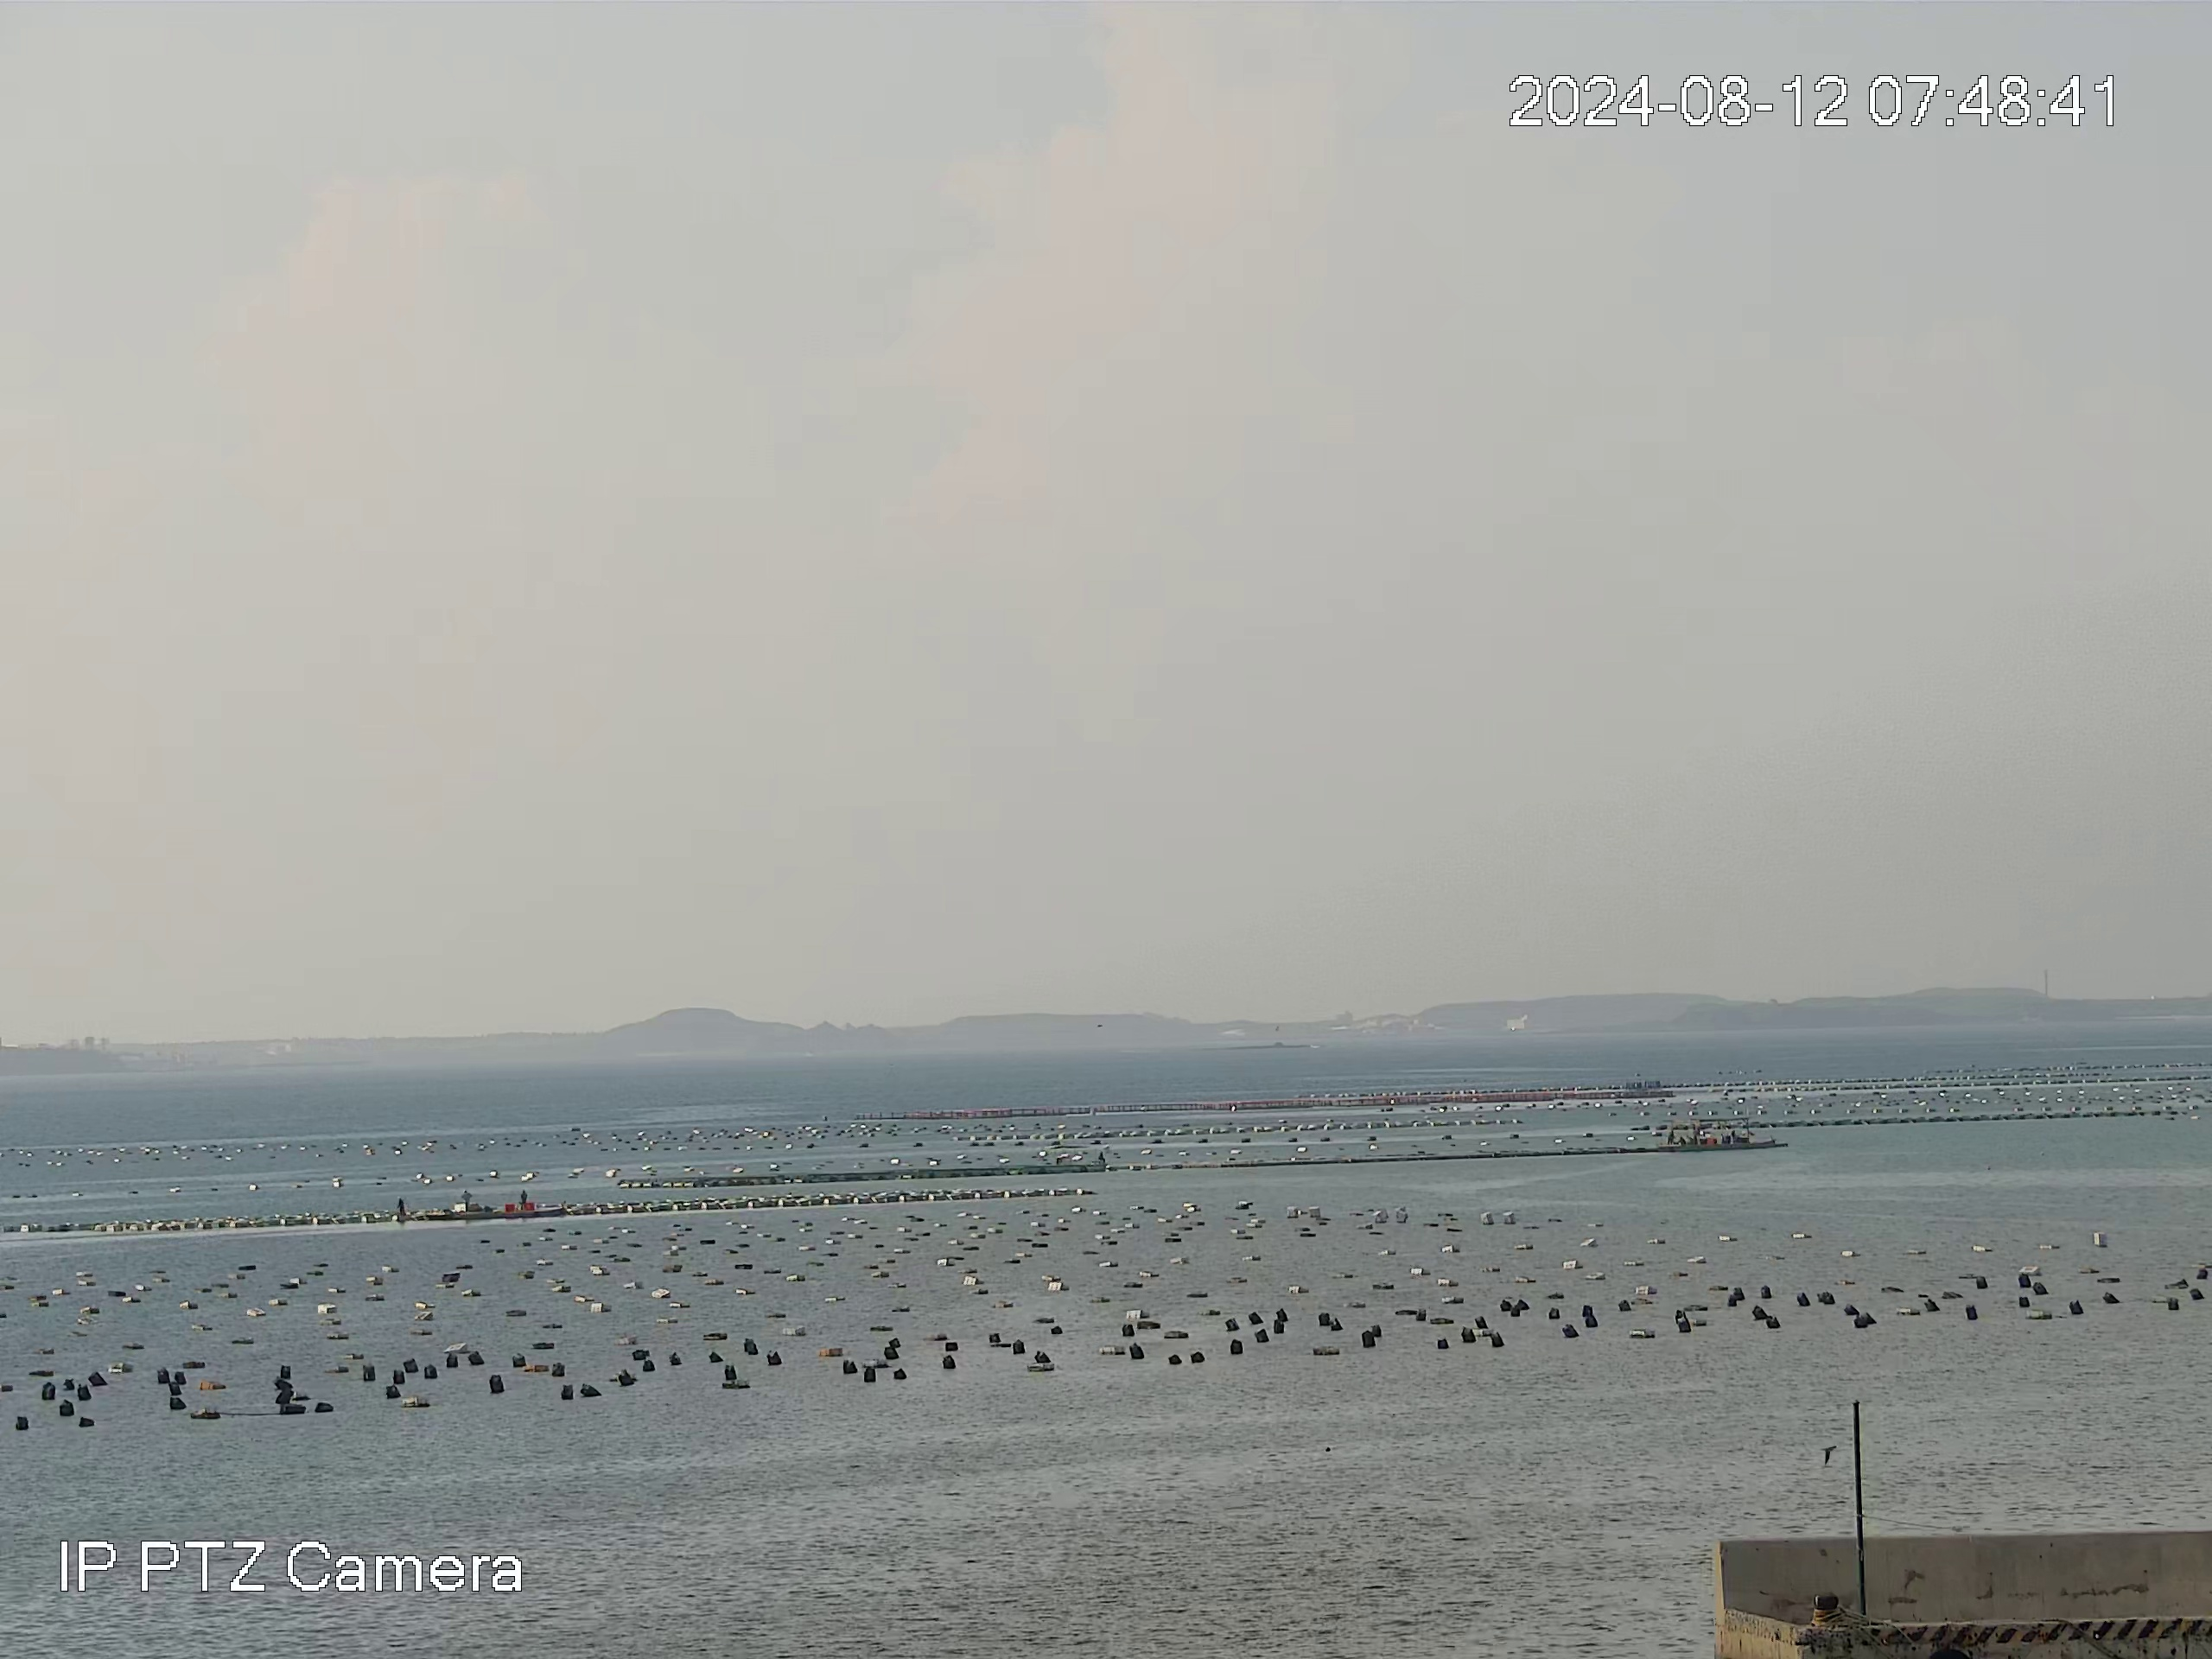boat: (391, 1190, 572, 1221), (1655, 1116, 1778, 1150)
